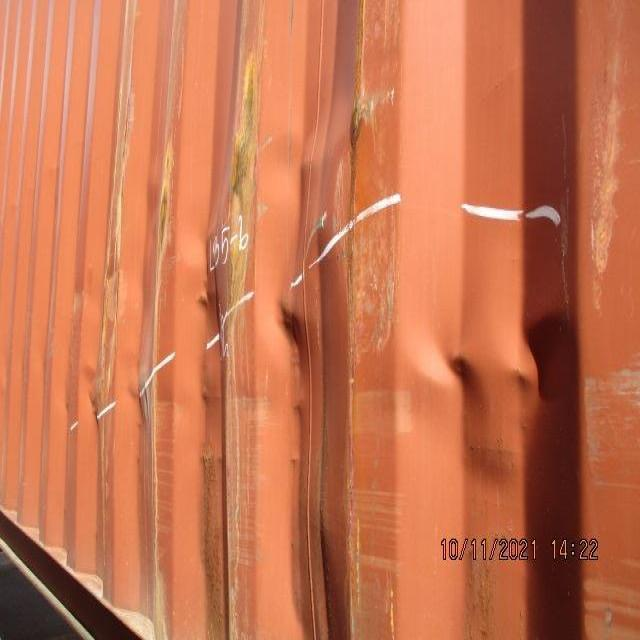Dent: (82, 107, 590, 556)
